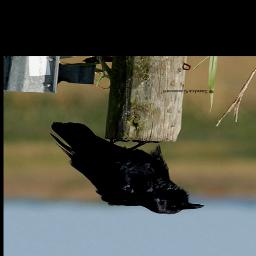Crow: (47, 120, 205, 215)
